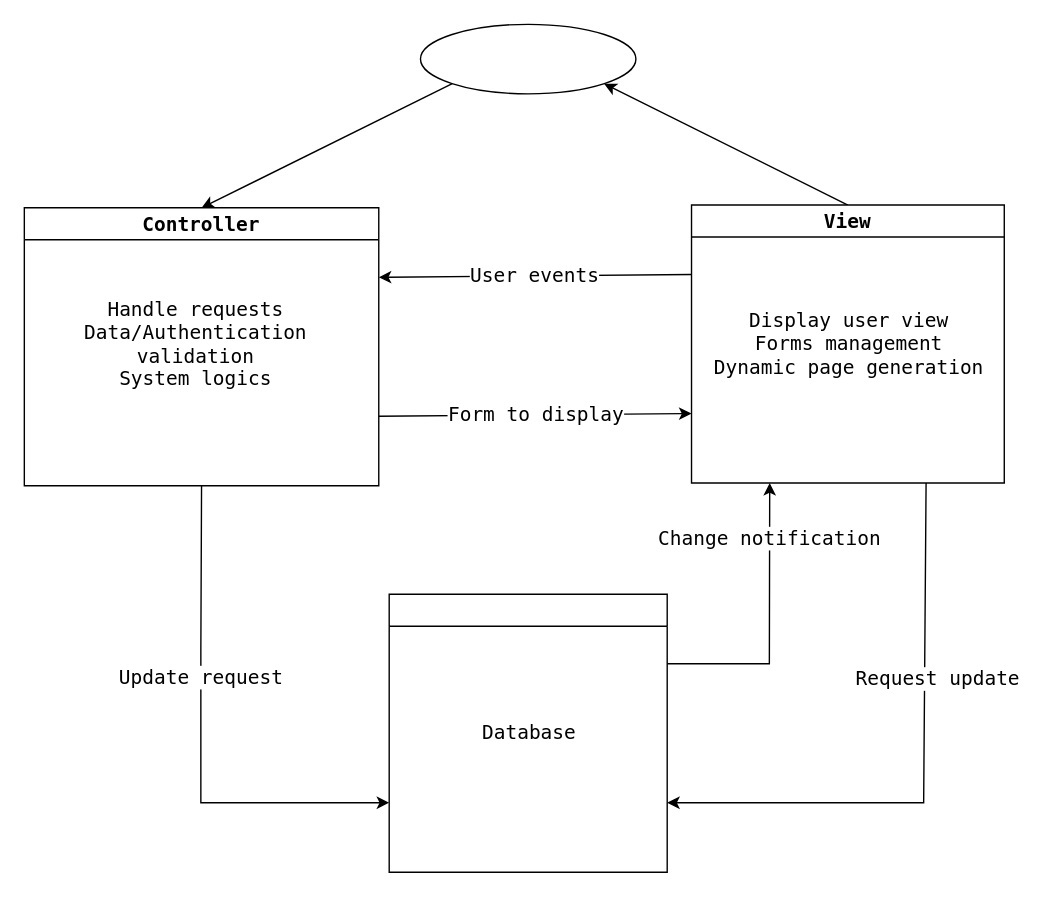
This 1044x897 diagram has some shape labels left out. Here are the shapes that lost their labels. From the top down, the box of each, then its label:
(419, 23, 636, 94): Browser
(388, 593, 667, 872): Model
